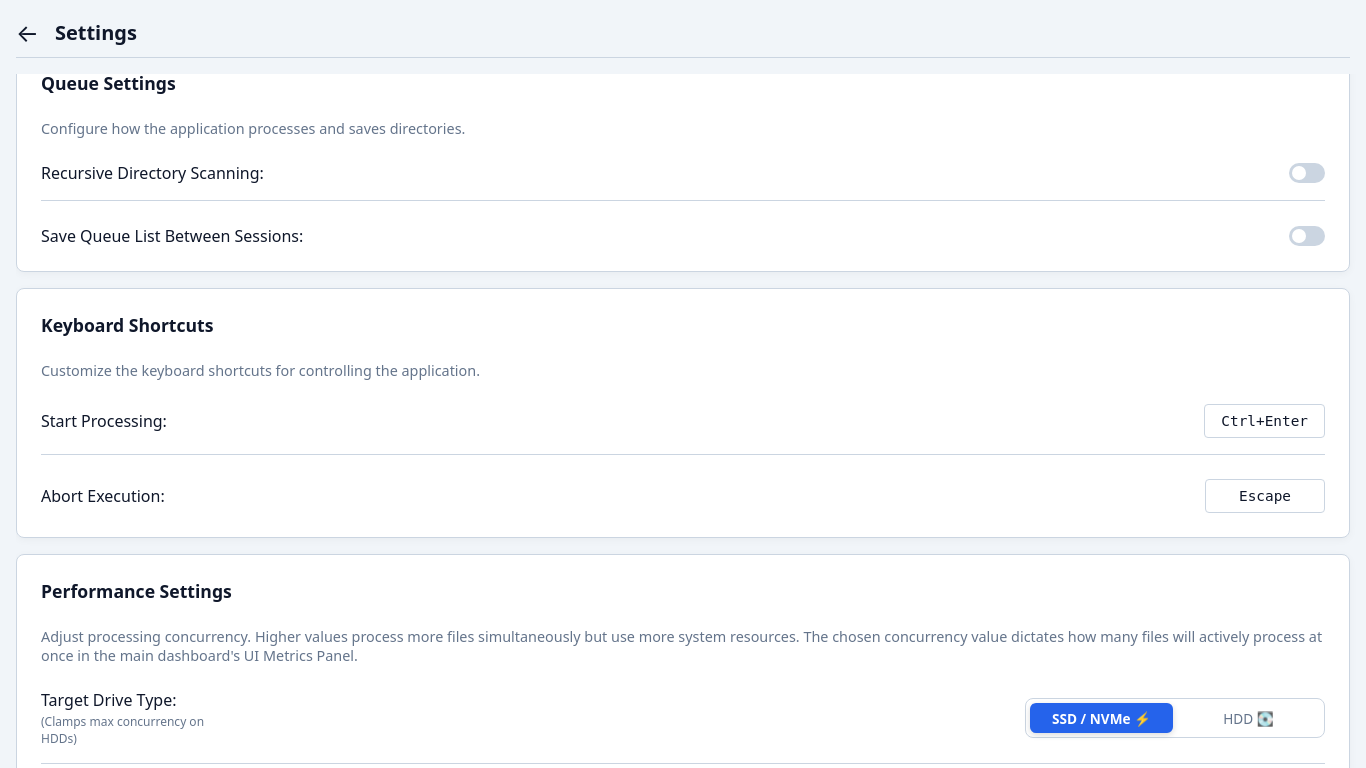
Scenario: Settings Page - Keyboard Shortcuts › allows recording a valid shortcut
(page scrolled)
Find the button to start recording for Start Processing
Click the button "Ctrl+Enter" at (1265, 421), box [1204,404,1325,438]
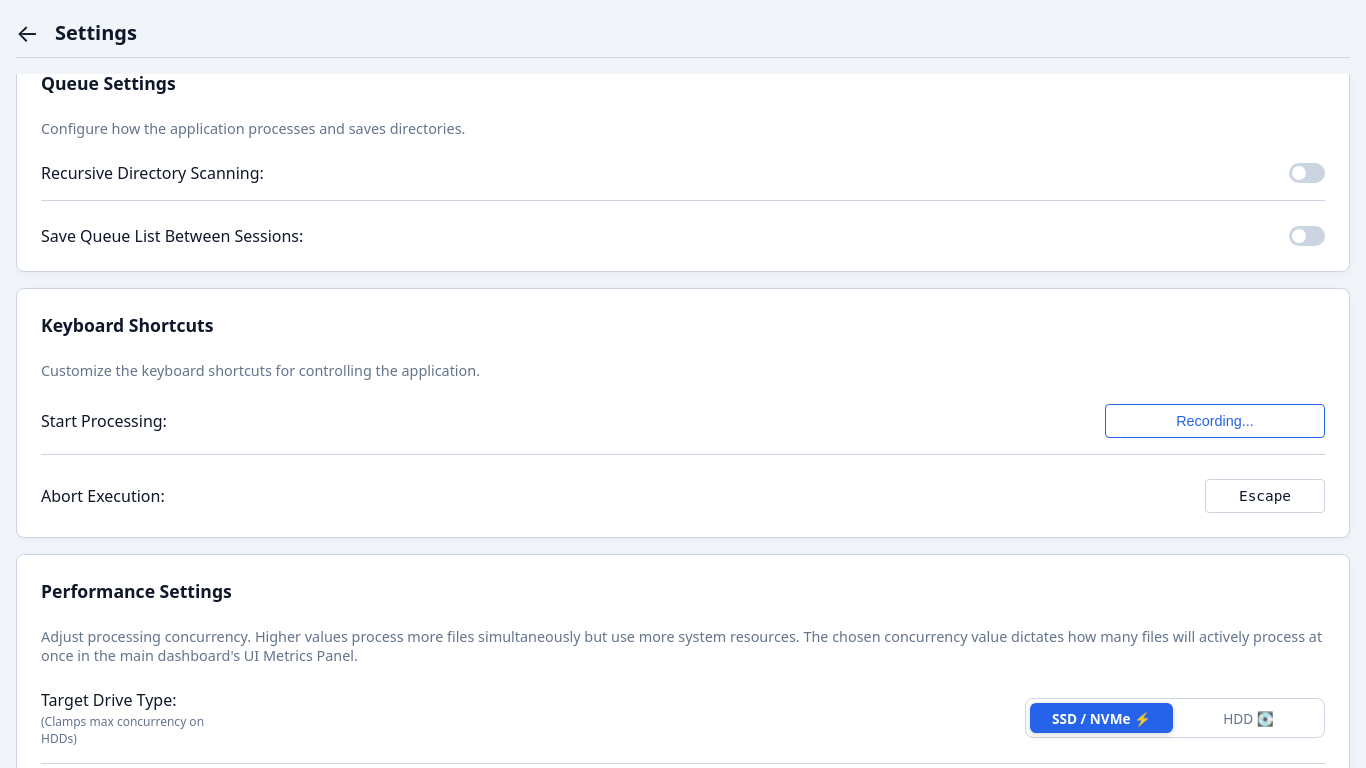
Check: the field showing "Recording..." is shown
Simulate pressing Ctrl + P
Press P in the field showing "Recording...", box [1105,404,1325,438]
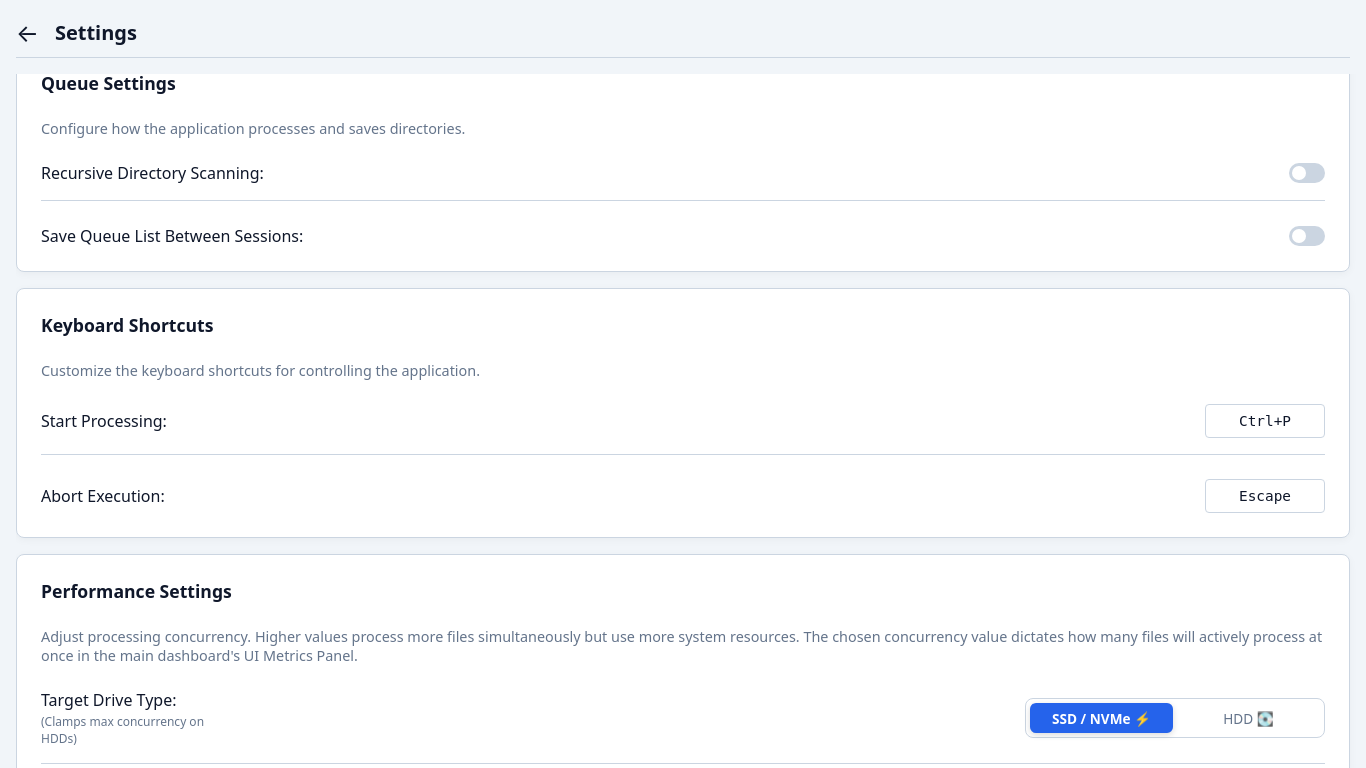
Check: the button "Ctrl+P" is shown, box [1205,404,1325,438]
